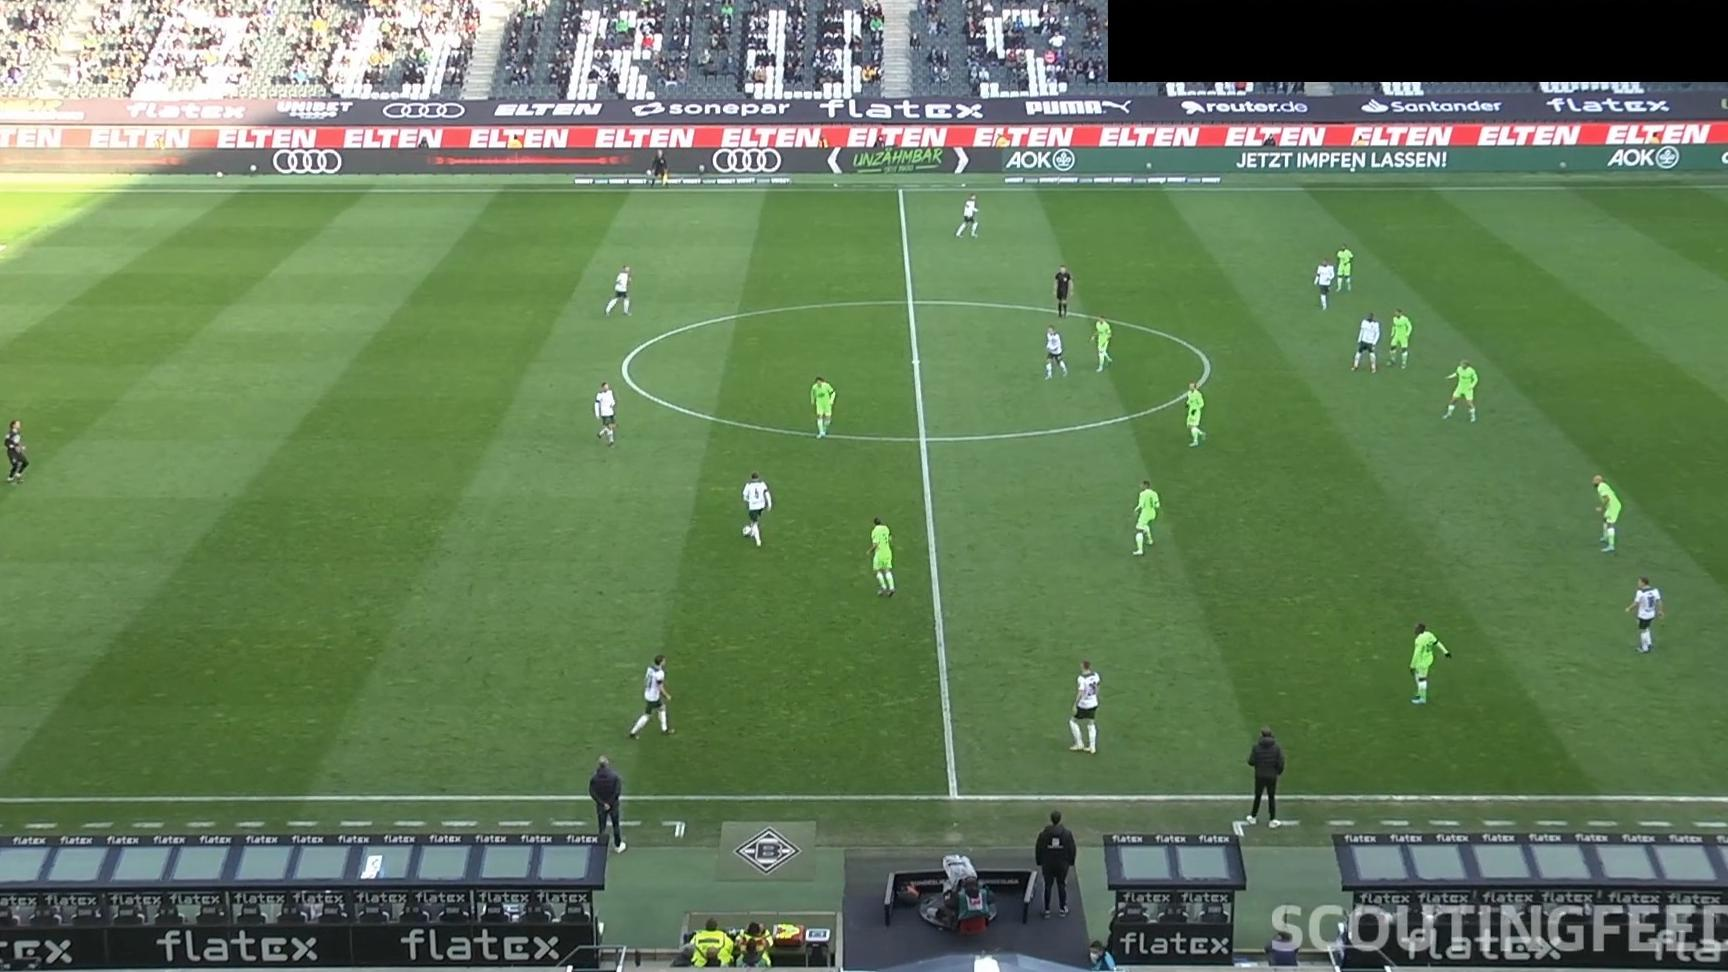ball: (741, 525, 752, 538)
